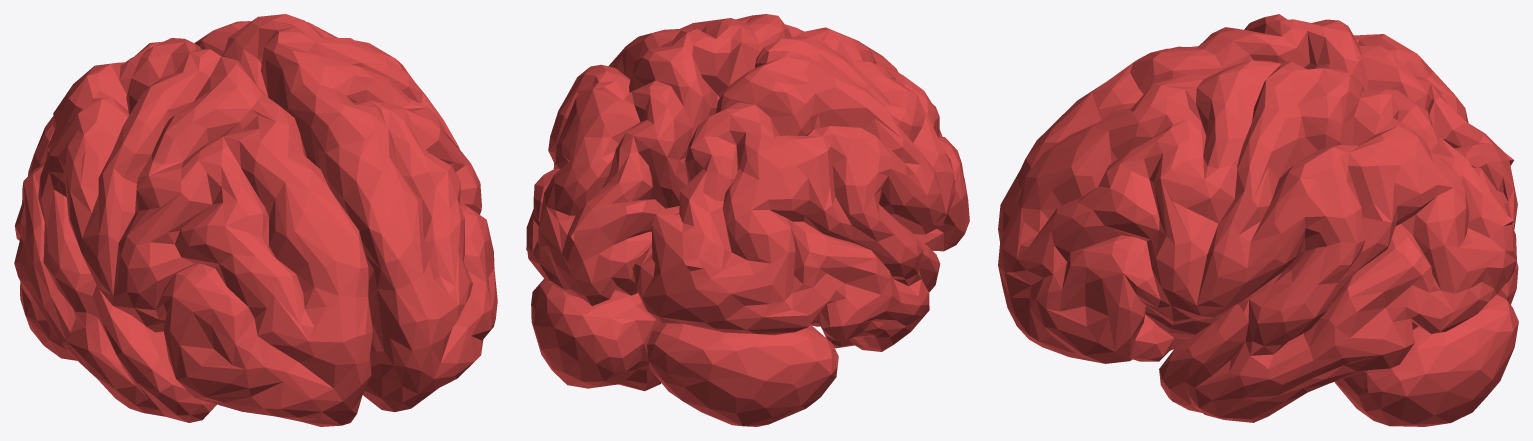
The model's file is braintransparent.gltf.
3 views of the same model, side by side, from view 1: azimuth 30°, elevation 25°; view 2: azimuth 150°, elevation 25°; view 3: azimuth 270°, elevation 25° (orthographic). The views are drawn at different scales.
Parts seen in each view (by area): view 1: Brain.001; view 2: Brain.001; view 3: Brain.001.
Boxes of the visible parts, x1,y1,x2,y2 form: Brain.001: (14, 14, 497, 426); Brain.001: (526, 14, 969, 426); Brain.001: (998, 14, 1518, 426).
Bounding box in the file's own units: 11.79 × 10 × 13.96.
